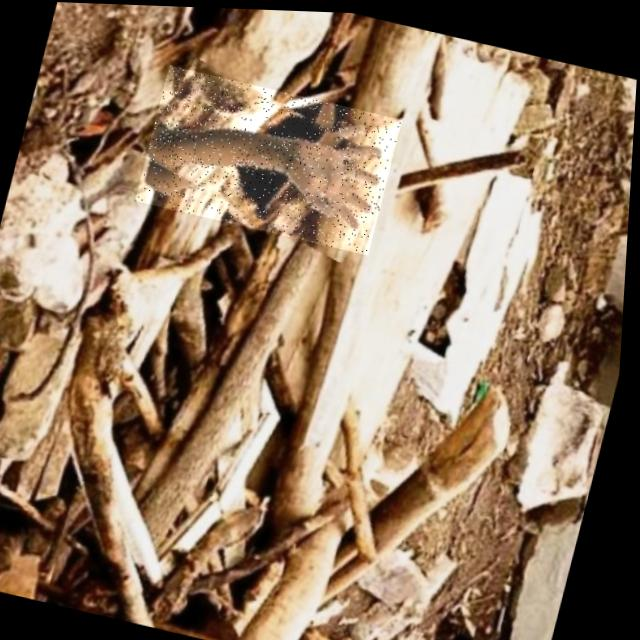Person in Rubble: (134, 63, 405, 253)
